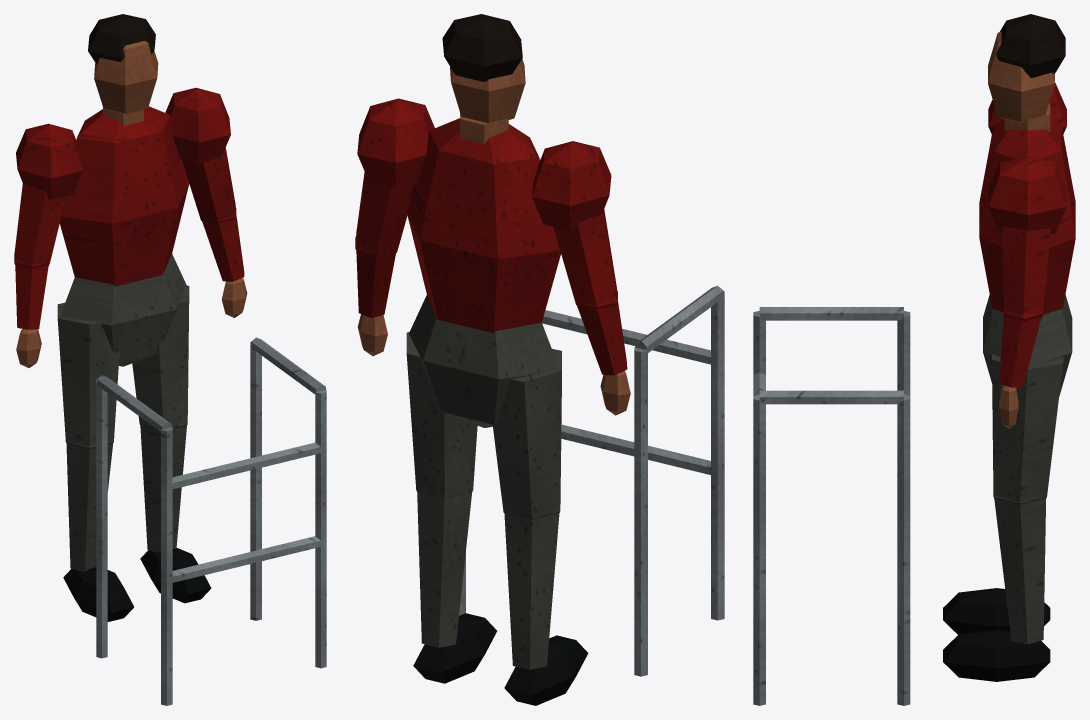
The model's file is PROP-F4F320430EFE_lod2.glb.
3 renders of one model, left to right at view 1: azimuth 30°, elevation 25°; view 2: azimuth 150°, elevation 25°; view 3: azimuth 270°, elevation 25°, orthographic. The views are drawn at different scales.
Visible parts, largest first — view 1: torso.050, walker_legs.002, thigh.049, shoulder.050, pelvis.049, calf.049, upper_arm.050, shoe.049, walker_brace.002, forearm.050, head.049, hair_cap.049 (+2 smaller); view 2: torso.050, thigh.049, calf.049, shoulder.050, pelvis.049, walker_legs.002, upper_arm.050, shoe.049, hair_cap.049, forearm.050, walker_brace.002, head.049 (+3 smaller); view 3: walker_legs.002, torso.050, thigh.049, shoe.049, calf.049, shoulder.050, walker_handle.002, upper_arm.050, hair_cap.049, head.049, pelvis.049, forearm.050 (+2 smaller).
Boxes of the visible parts, x1,y1,x2,y2 form: torso.050: (59, 106, 189, 286); walker_legs.002: (96, 342, 326, 705); thigh.049: (57, 285, 189, 446); shoulder.050: (16, 87, 230, 199); pelvis.049: (59, 254, 187, 366); calf.049: (66, 426, 186, 571); upper_arm.050: (14, 148, 235, 264); shoe.049: (63, 548, 211, 621); walker_brace.002: (169, 442, 323, 583); forearm.050: (15, 215, 244, 329); head.049: (94, 41, 158, 114); hair_cap.049: (88, 14, 155, 64); torso.050: (406, 118, 560, 333); thigh.049: (406, 332, 561, 518); calf.049: (417, 492, 559, 669); shoulder.050: (357, 98, 611, 230); pelvis.049: (409, 295, 559, 427); walker_legs.002: (459, 291, 724, 676); upper_arm.050: (356, 172, 616, 305); shoe.049: (413, 613, 588, 705); hair_cap.049: (442, 14, 522, 81); forearm.050: (356, 251, 627, 375); walker_brace.002: (542, 310, 710, 474); head.049: (450, 59, 525, 123); walker_legs.002: (753, 311, 910, 705); torso.050: (979, 119, 1075, 314); thigh.049: (992, 354, 1063, 502); shoe.049: (943, 588, 1050, 681); calf.049: (994, 499, 1045, 644); shoulder.050: (988, 83, 1066, 233); walker_handle.002: (759, 307, 903, 404); upper_arm.050: (1002, 226, 1050, 313); hair_cap.049: (996, 14, 1065, 78); head.049: (988, 31, 1054, 122); pelvis.049: (983, 294, 1072, 395); forearm.050: (999, 316, 1041, 387).
Bounding box in the file's own units: 0.72 × 1.72 × 0.7825.
Materials: 6 (6 with a texture image).
